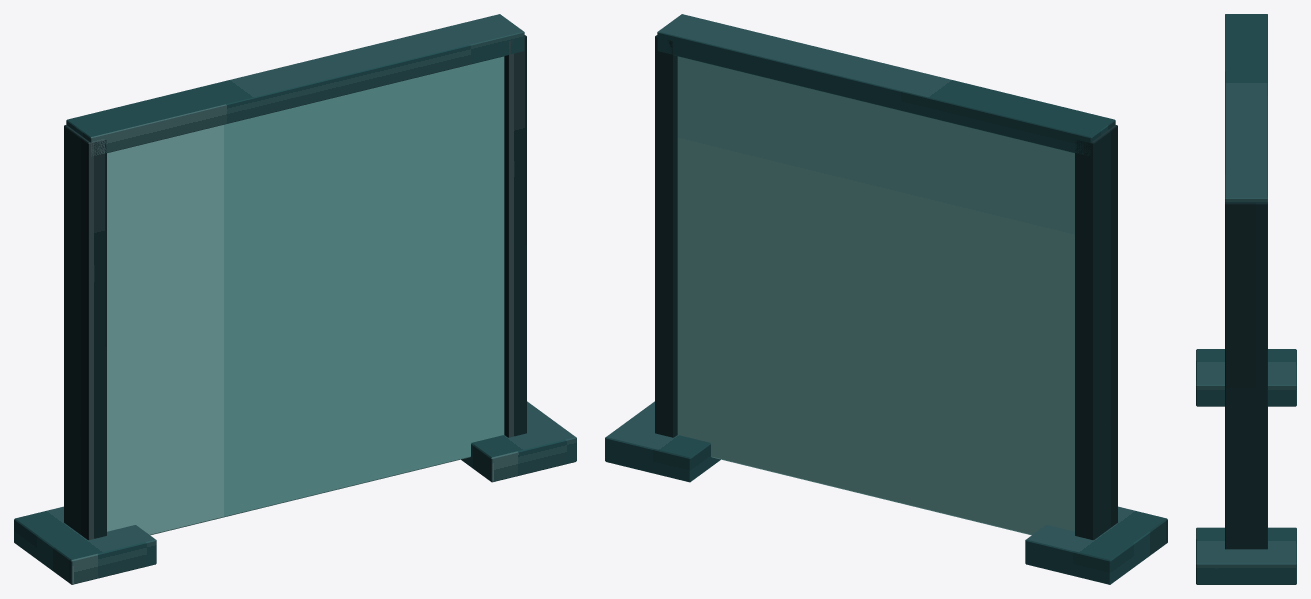
Rendered from office_cubicle_partition_teal.glb.
The picture shows the model from 3 angles, left to right: view 1: azimuth 30°, elevation 25°; view 2: azimuth 150°, elevation 25°; view 3: azimuth 270°, elevation 25°; orthographic projection. The views are drawn at different scales.
Parts seen in each view (by area): view 1: PartitionPanel, TopRail, FramePost, FramePost.001, Foot, Foot.001; view 2: PartitionPanel, TopRail, FramePost, FramePost.001, Foot, Foot.001; view 3: FramePost.001, TopRail, Foot.001, Foot.
Part boxes in pixels (x1,y1,x2,y2): PartitionPanel: (107,56,504,535); TopRail: (66,14,524,156); FramePost: (64,125,106,539); FramePost.001: (504,35,526,437); Foot: (14,506,156,584); Foot.001: (461,401,576,482); PartitionPanel: (677,56,1074,535); TopRail: (657,14,1115,155); FramePost: (1075,125,1117,539); FramePost.001: (655,35,677,437); Foot: (1025,506,1167,584); Foot.001: (605,401,720,482); FramePost.001: (1225,202,1267,549); TopRail: (1225,14,1267,202); Foot.001: (1196,527,1296,584); Foot: (1196,349,1296,406).
Bounding box in the file's own units: 2.12 × 1.72 × 0.42.
1 material, 1 textured.
